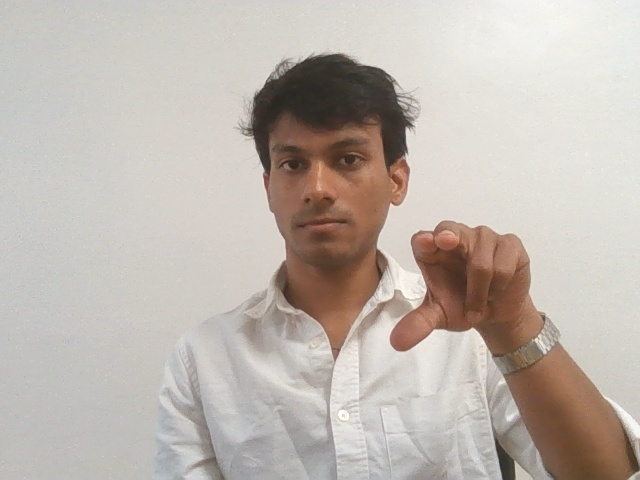No: (388, 218, 539, 366)
